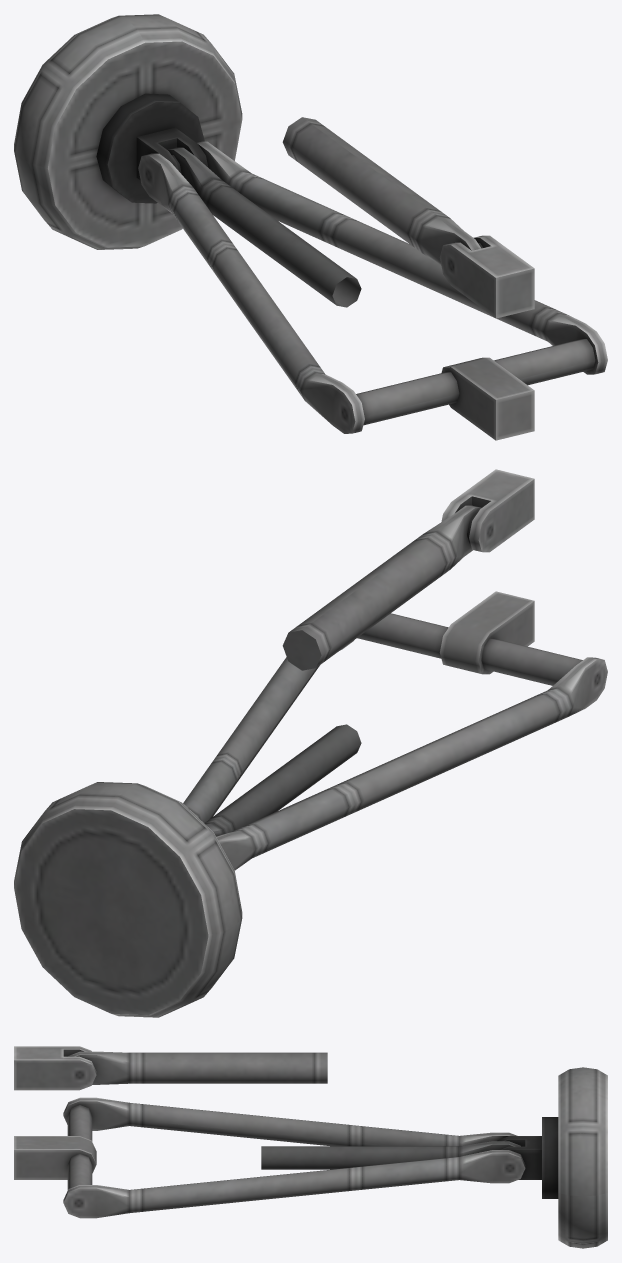
File: ye85_leg.obj
The picture shows the model from 3 angles, top to bottom: view 1: azimuth 30°, elevation 25°; view 2: azimuth 150°, elevation 25°; view 3: azimuth 270°, elevation 25°; orthographic projection. The views are drawn at different scales.
Visible parts, largest first — view 1: f1, l1, 1, s2, s1; view 2: f1, l1, 1, s2, s1; view 3: l1, f1, 1, s2, s1.
Boxes of the visible parts, x1,y1,x2,y2 form: f1: (14, 14, 242, 249); l1: (138, 141, 607, 433); 1: (356, 235, 595, 440); s2: (282, 117, 482, 265); s1: (167, 147, 361, 307); f1: (14, 782, 242, 1017); l1: (183, 640, 607, 870); 1: (357, 469, 582, 685); s2: (282, 505, 481, 670); s1: (204, 724, 361, 836); l1: (63, 1097, 525, 1218); f1: (497, 1067, 607, 1248); 1: (14, 1046, 96, 1189); s2: (68, 1051, 327, 1084); s1: (261, 1141, 520, 1169).
Size of the model in its own units: 0.35 by 0.3125 by 0.9.
Materials: 3 (3 with a texture image).
